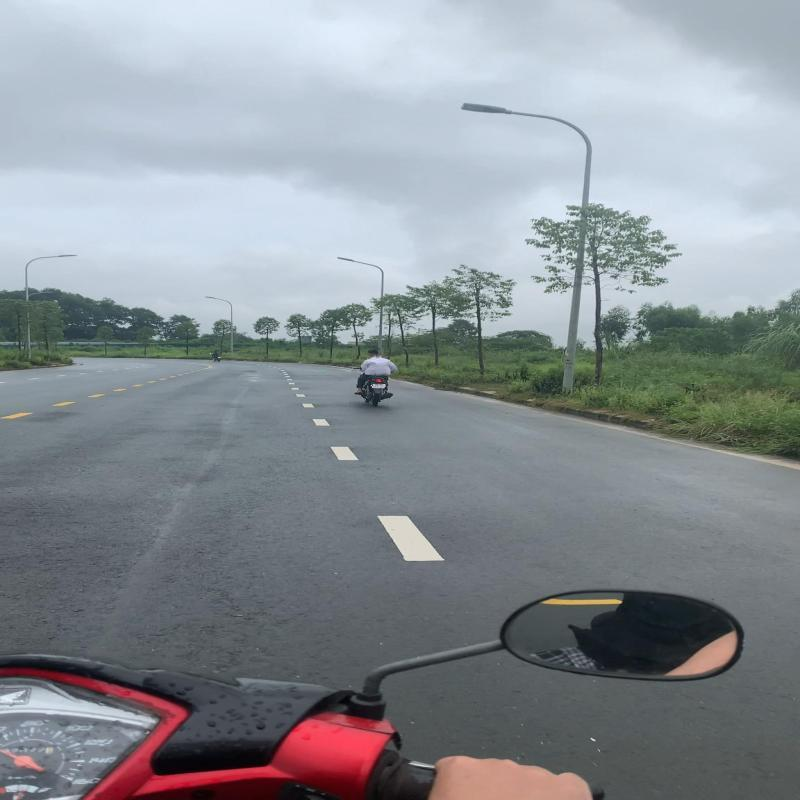licenseplate: (371, 383, 386, 389)
motorcyclist: (350, 347, 400, 408)
nohelmet: (366, 348, 380, 358)
